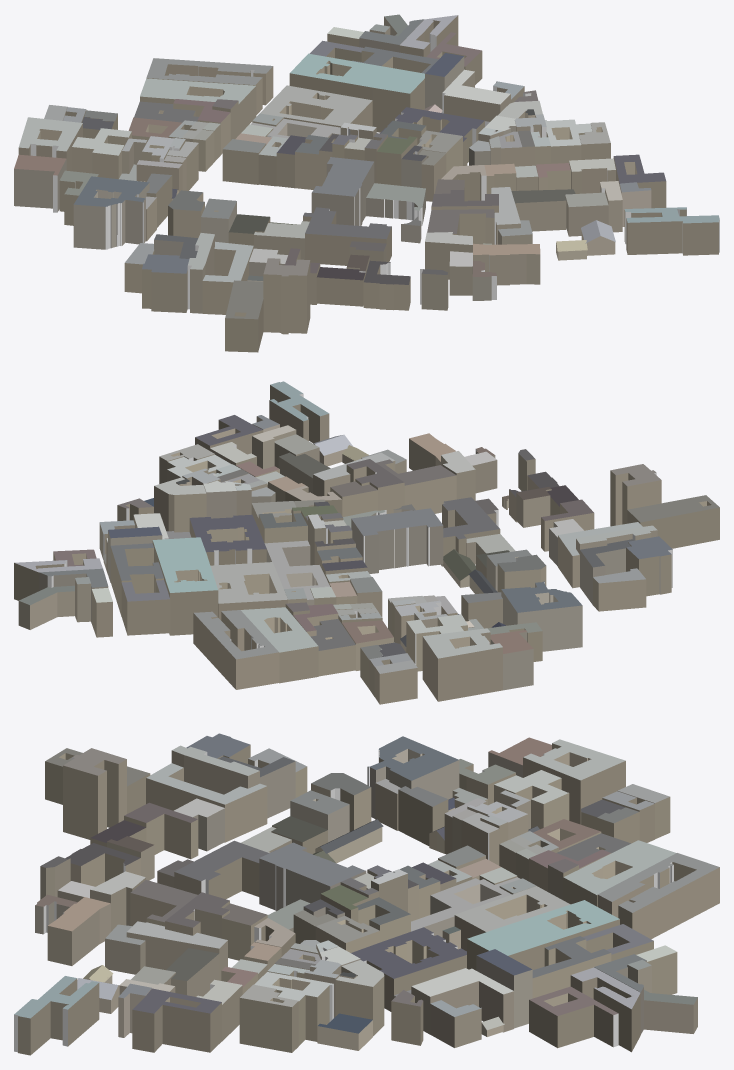
3 views of the same model, one above another, from view 1: azimuth 30°, elevation 25°; view 2: azimuth 150°, elevation 25°; view 3: azimuth 270°, elevation 25° (orthographic). The views are drawn at different scales.
Visible parts, largest first — view 1: tuile; view 2: tuile; view 3: tuile.
Boxes of the visible parts, x1,y1,x2,y2 form: tuile: (14,14,719,352); tuile: (14,381,719,704); tuile: (14,733,719,1055).
Size of the model in its own units: 271 by 31.52 by 290.
